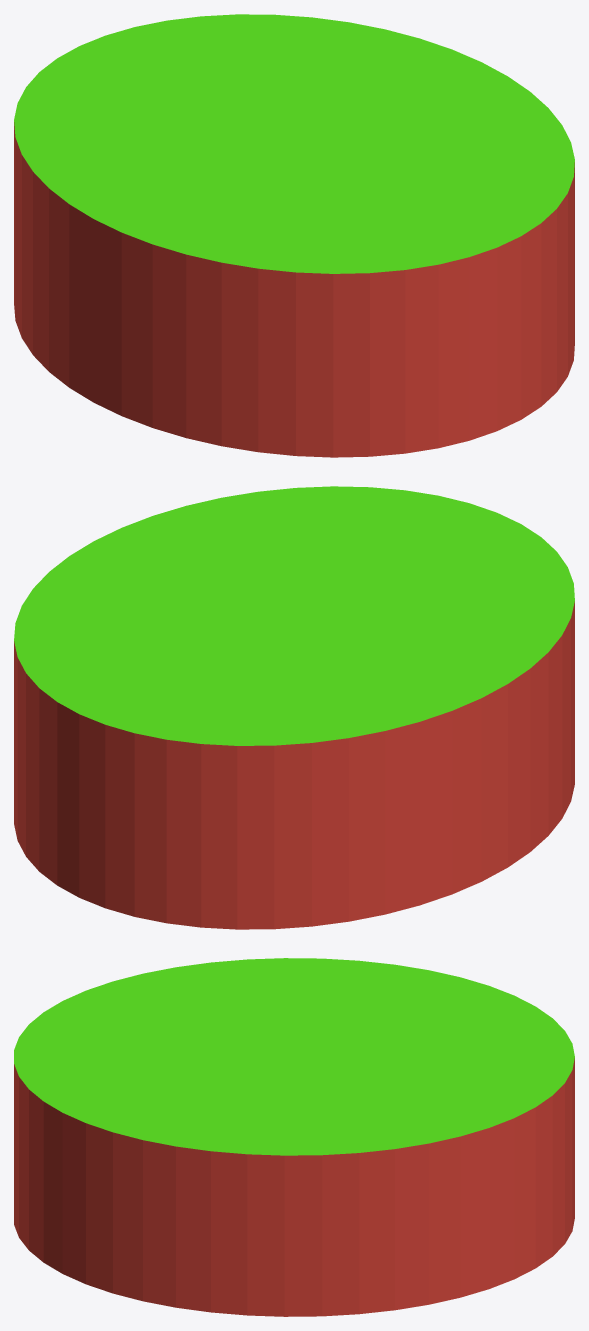
File: Circular room.fbx
3 renders of one model, top to bottom at view 1: azimuth 30°, elevation 25°; view 2: azimuth 150°, elevation 25°; view 3: azimuth 270°, elevation 25°, orthographic. The views are drawn at different scales.
Parts seen in each view (by area): view 1: Cylinder; view 2: Cylinder; view 3: Cylinder.
Boxes of the visible parts, x1,y1,x2,y2 form: Cylinder: (14, 14, 574, 457); Cylinder: (14, 486, 574, 929); Cylinder: (14, 958, 574, 1316).
Bounding box in the file's own units: 202 × 76.84 × 242.
